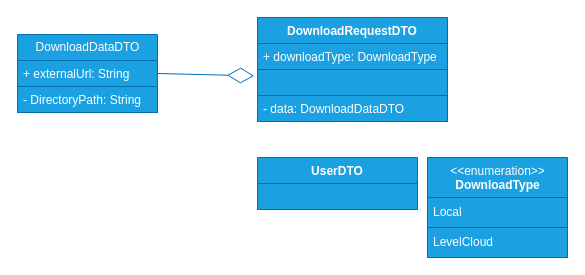
This 585x275 diagram has some shape labels left out. The shapes that lost their labels are listed below. From the top down, each one's centre as x and y in pixels, then its label:
the point at 352,82: - user: DownloadUser
the point at 337,196: - uid
